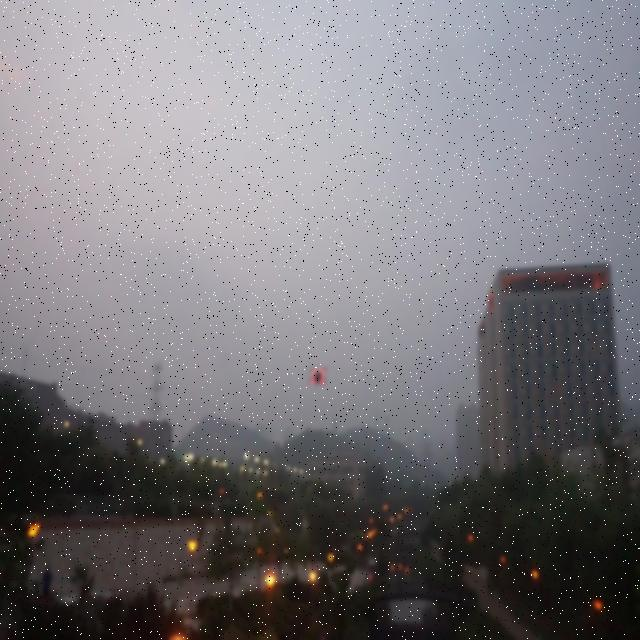UAV: (307, 366, 328, 387)
